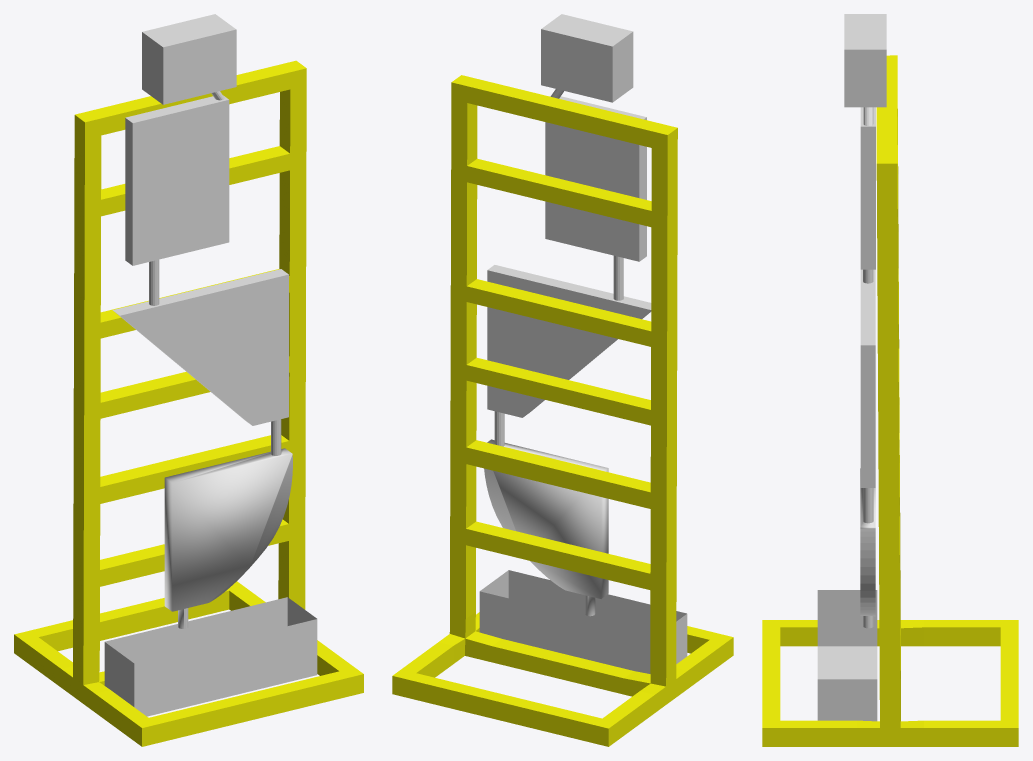
File: Multitanks_20x_size.fbx
3 views of the same model, side by side, from view 1: azimuth 30°, elevation 25°; view 2: azimuth 150°, elevation 25°; view 3: azimuth 270°, elevation 25° (orthographic). The views are drawn at different scales.
Parts seen in each view (by area): view 1: Tank3Frame, Tank 1&2&3, Reservoir; view 2: Tank3Frame, Tank 1&2&3, Reservoir; view 3: Tank3Frame, Tank 1&2&3, Reservoir.
Boxes of the visible parts, box(x1,y1,x2,y2) form: Tank3Frame: box(14, 60, 363, 746); Tank 1&2&3: box(112, 14, 292, 628); Reservoir: box(104, 597, 317, 716); Tank3Frame: box(392, 75, 733, 746); Tank 1&2&3: box(484, 14, 651, 616); Reservoir: box(479, 570, 687, 673); Tank3Frame: box(762, 55, 1018, 746); Tank 1&2&3: box(844, 14, 886, 628); Reservoir: box(817, 590, 877, 721).
Bounding box in the file's own units: 986 × 2781 × 986.
